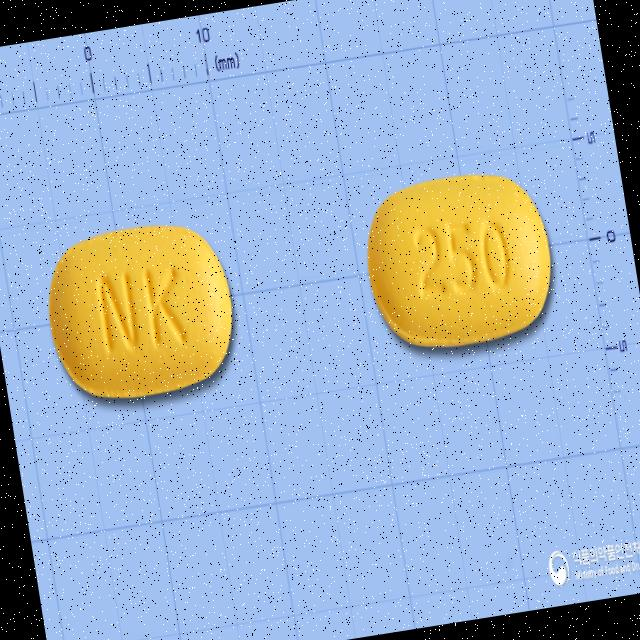Clara: (36, 212, 250, 418), (354, 159, 566, 362)
